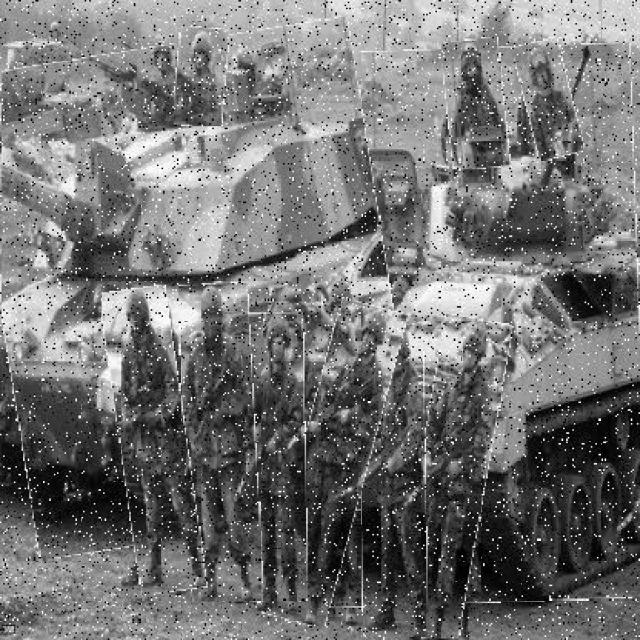Person: (280, 300, 387, 627), (404, 317, 501, 640), (110, 289, 198, 596), (181, 284, 259, 604), (361, 324, 427, 640), (243, 314, 307, 614), (446, 39, 509, 172), (519, 41, 578, 161), (175, 29, 229, 127)
Tank: (263, 47, 640, 610), (3, 32, 407, 549)
